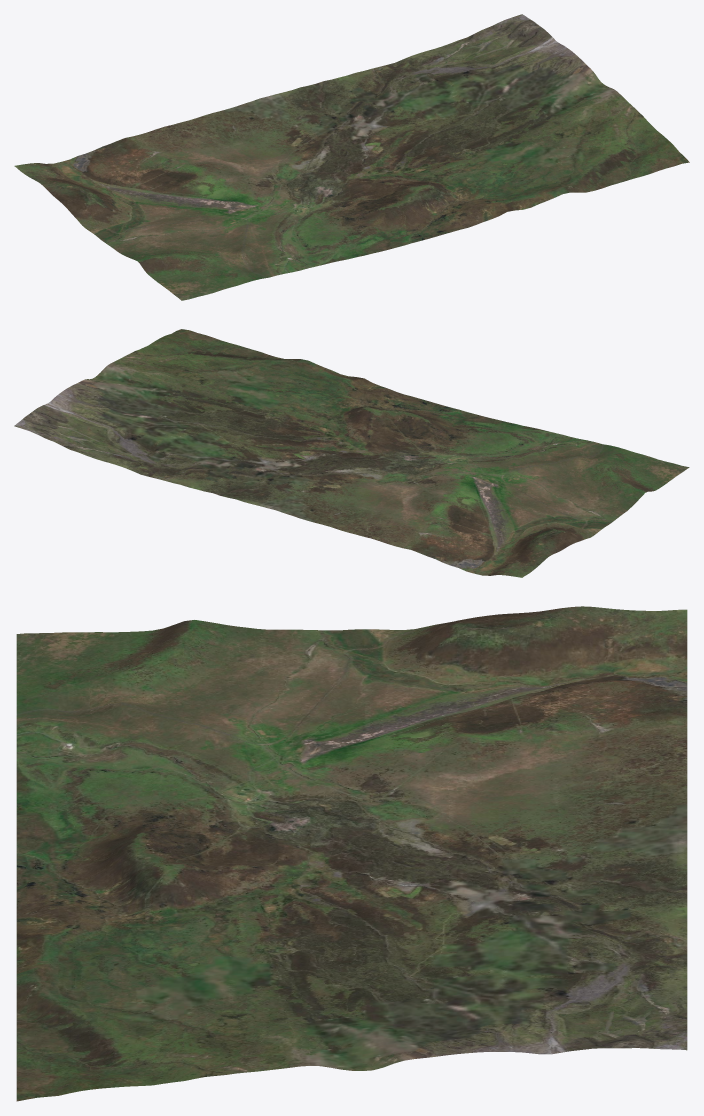
File: antisana.dae
3 views of the same model, one above another, from view 1: azimuth 30°, elevation 25°; view 2: azimuth 150°, elevation 25°; view 3: azimuth 270°, elevation 25° (orthographic). The views are drawn at different scales.
Visible parts, largest first — view 1: EXPORT_GOOGLE_SAT_WM; view 2: EXPORT_GOOGLE_SAT_WM; view 3: EXPORT_GOOGLE_SAT_WM.
Boxes of the visible parts, x1,y1,x2,y2 form: EXPORT_GOOGLE_SAT_WM: (14, 14, 689, 300); EXPORT_GOOGLE_SAT_WM: (14, 329, 689, 577); EXPORT_GOOGLE_SAT_WM: (16, 606, 687, 1101).
Size of the model in its own units: 8561 by 4892 by 667.
Materials: 1 (1 with a texture image).
